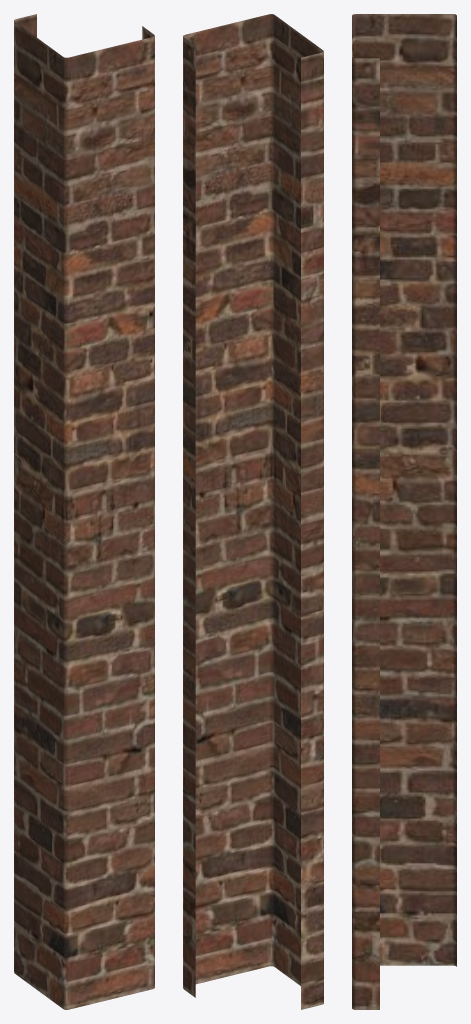
The model's file is FactoryPillar.glb.
3 renders of one model, left to right at view 1: azimuth 30°, elevation 25°; view 2: azimuth 210°, elevation 25°; view 3: azimuth 270°, elevation 25°, orthographic.
Visible parts, largest first — view 1: wall_pier_corner_01; view 2: wall_pier_corner_01; view 3: wall_pier_corner_01.
Boxes of the visible parts, box(x1,y1,x2,y2) form: wall_pier_corner_01: box(14, 14, 154, 1009); wall_pier_corner_01: box(183, 14, 323, 1009); wall_pier_corner_01: box(352, 14, 456, 1009).
Size of the model in its own units: 0.3 by 3 by 0.3.
Materials: 1 (1 with a texture image).
